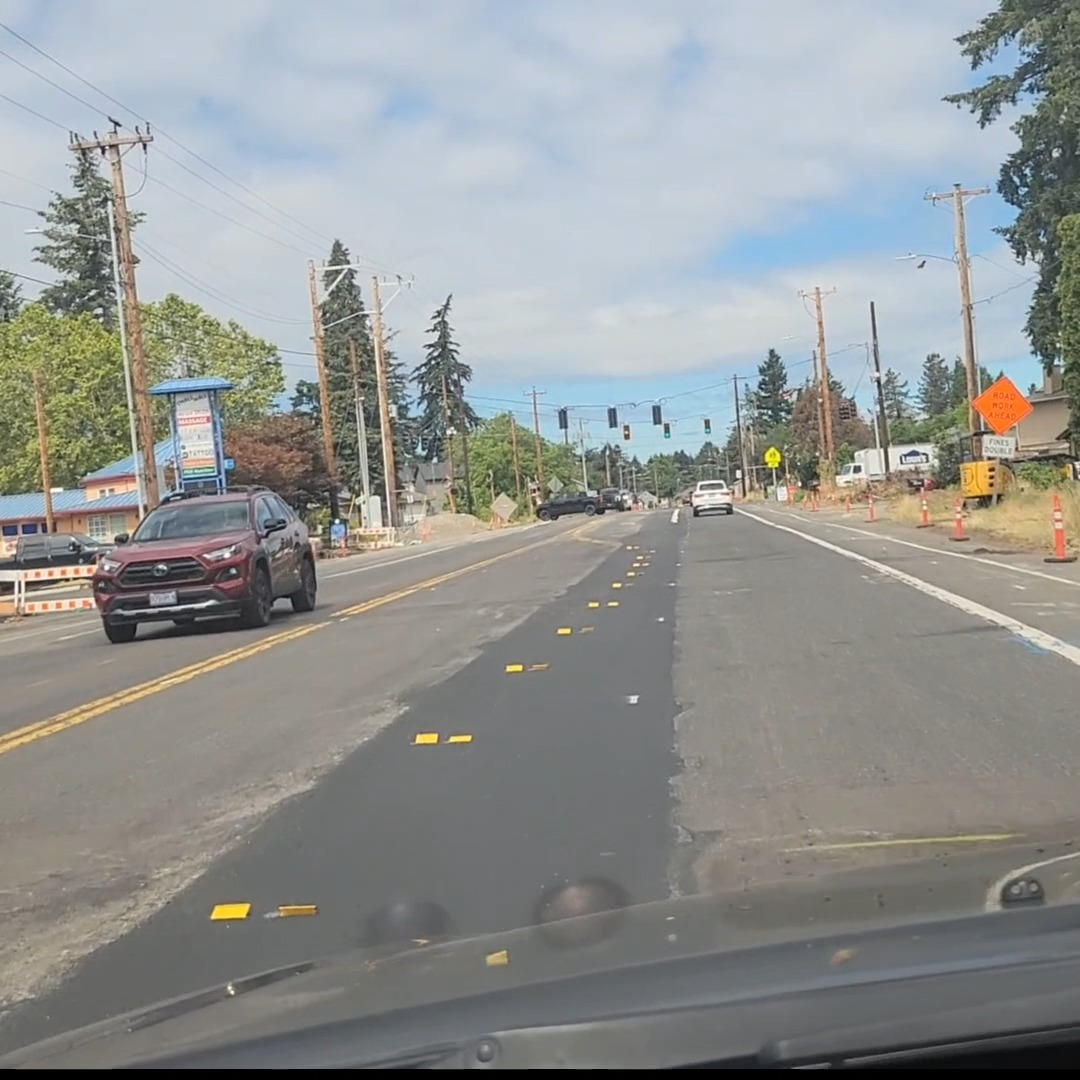car: (91, 484, 317, 640), (2, 531, 115, 591), (534, 491, 604, 520), (690, 480, 734, 516)
crosswalk-sign: (763, 446, 781, 467)
delineator: (1041, 493, 1076, 564), (948, 498, 971, 543), (916, 491, 935, 529), (864, 492, 877, 522), (807, 490, 820, 511), (843, 492, 853, 514)
